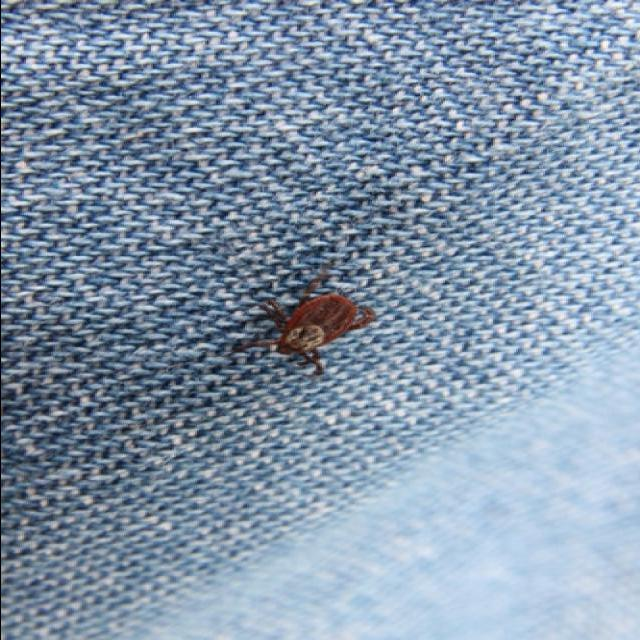Dermacentor Reticulatus-F: (231, 273, 375, 376)
